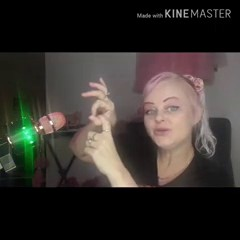Q: (76, 74, 121, 177)
